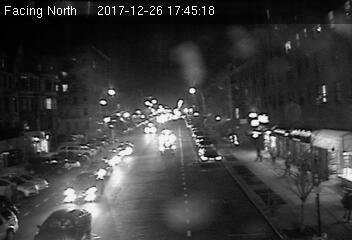car: (64, 172, 102, 202), (84, 161, 113, 177), (198, 148, 223, 163), (114, 140, 136, 156), (158, 141, 177, 156)
